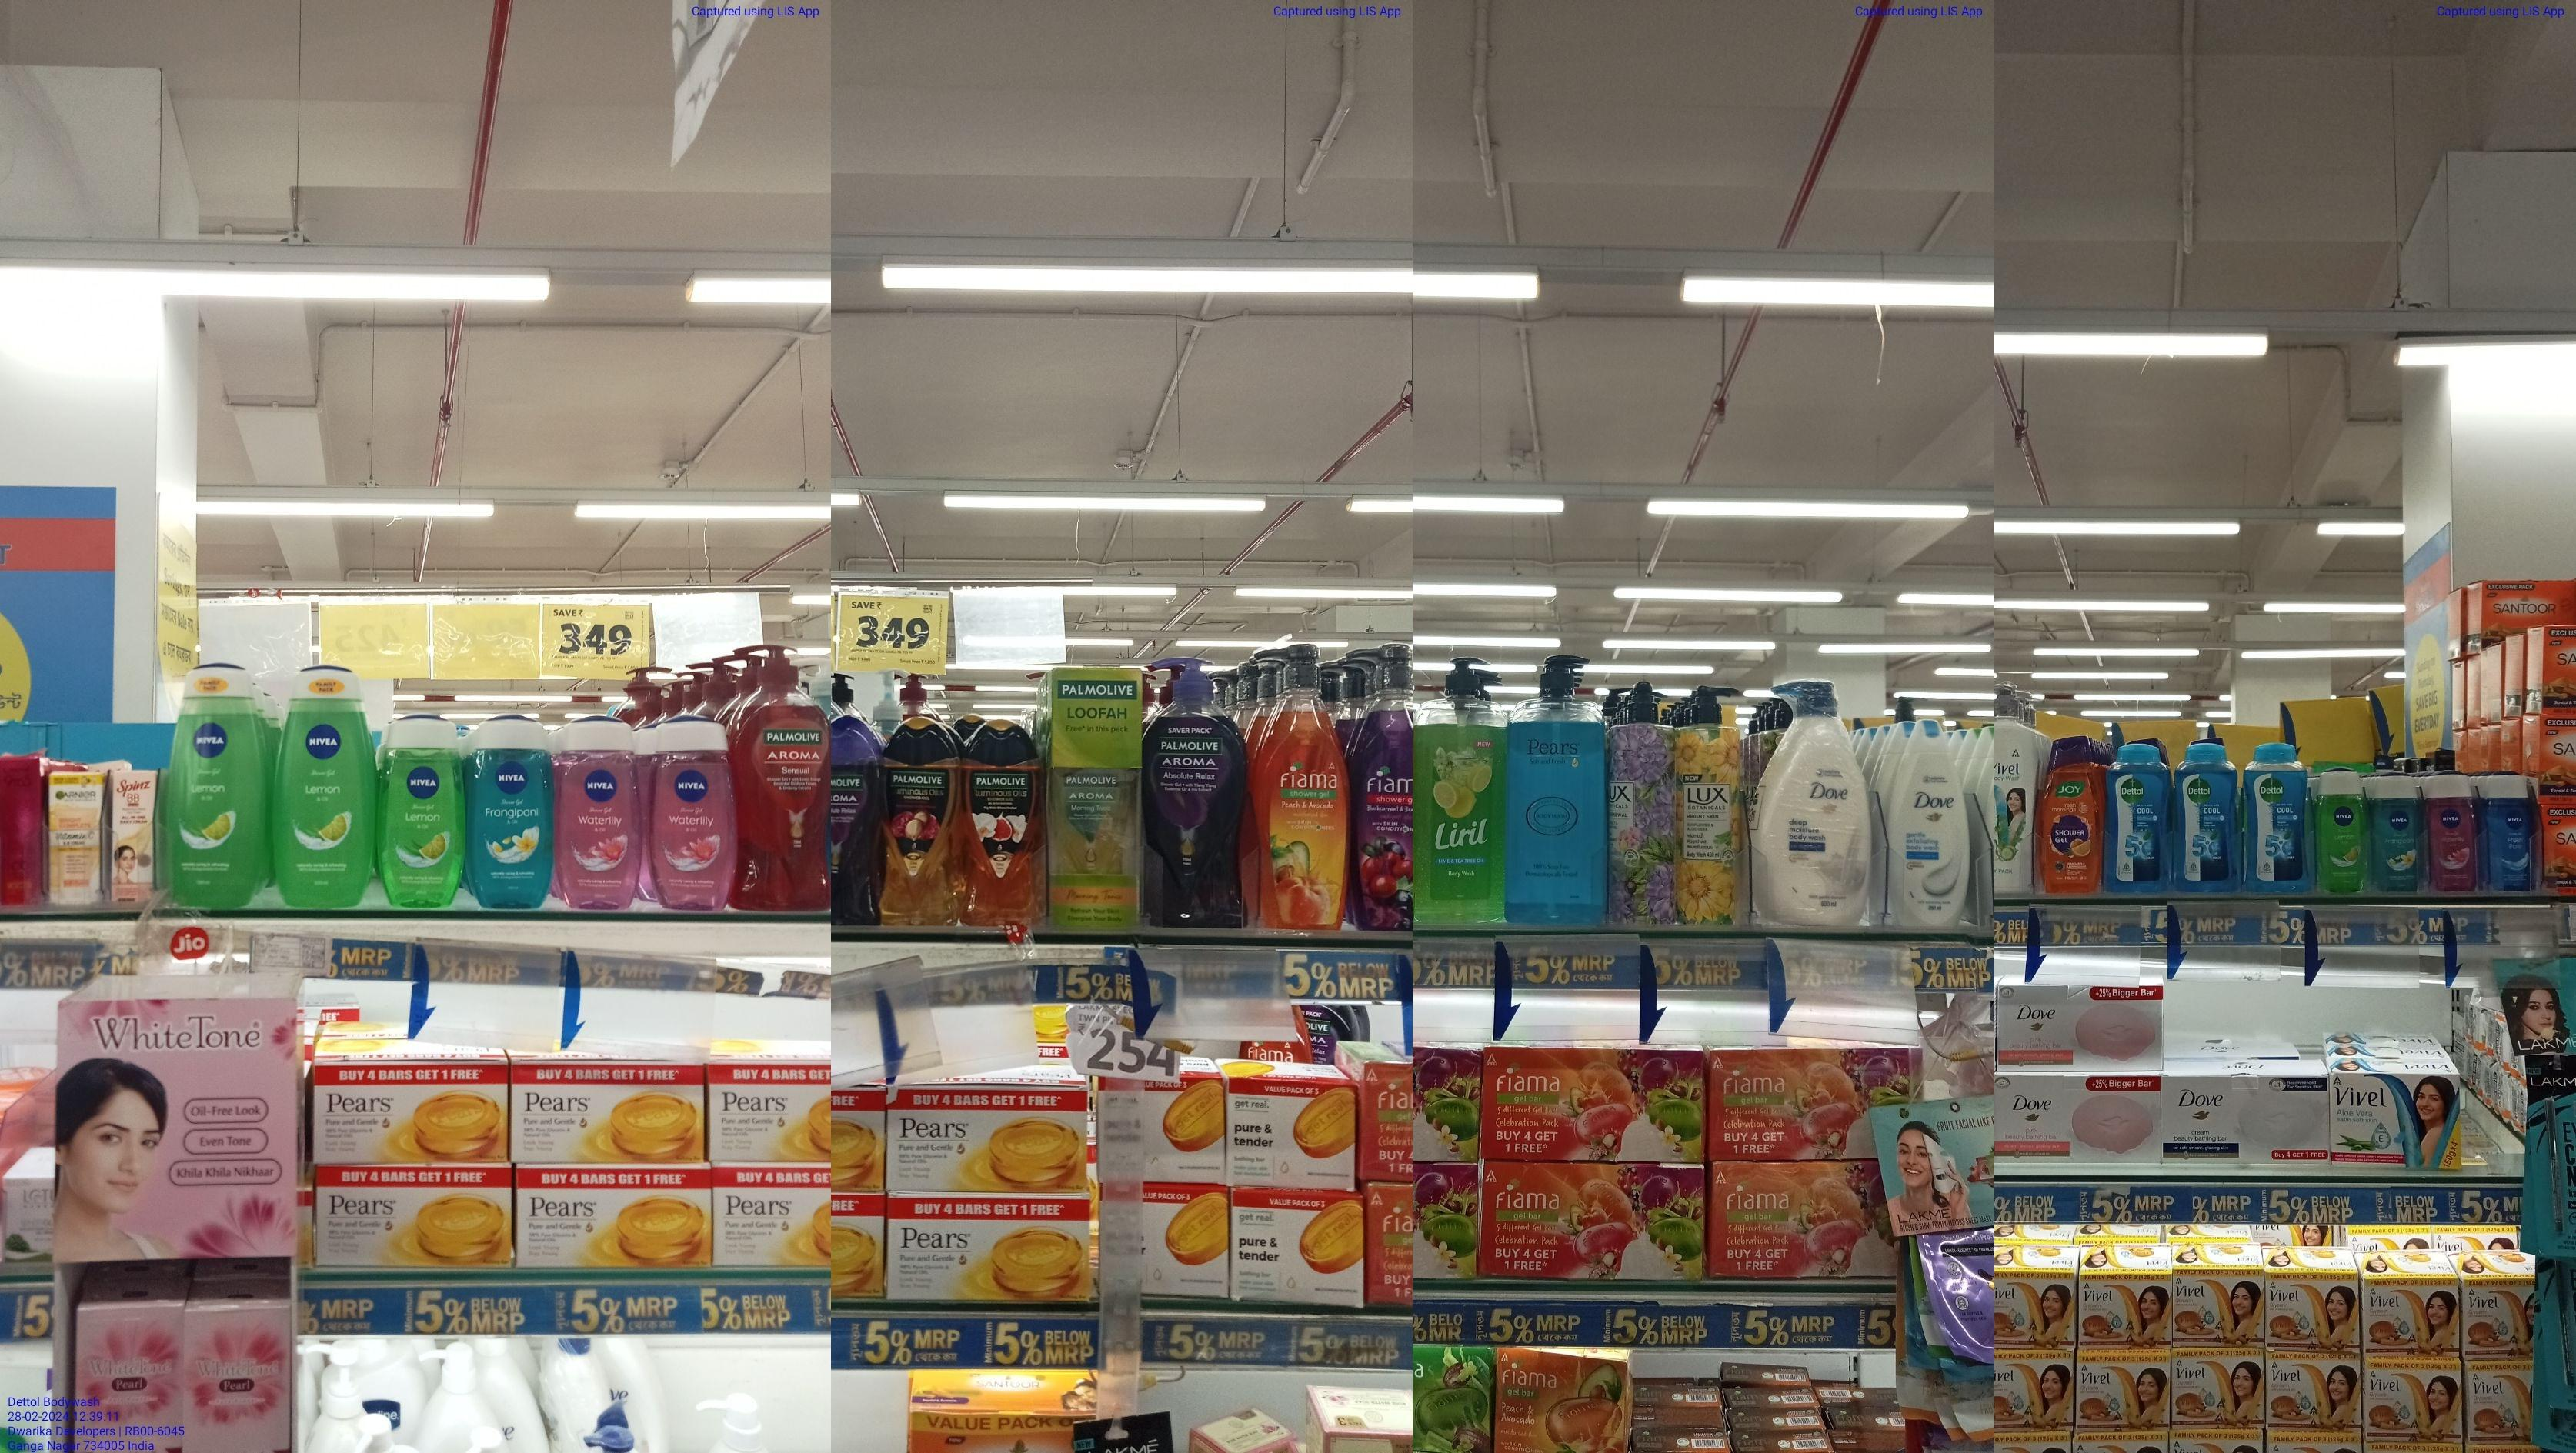Dettol_Bodywash_Cool: (2173, 739, 2240, 896), (2243, 737, 2309, 898), (2109, 741, 2167, 896)
Dove_Gentle_Exfoliating_Body_Wash_250ML: (1891, 719, 1967, 935)
Joy_Shower_Gel_Mandarin_and_Lemongrass_250ML: (2040, 732, 2105, 900)
Nivea_Shower_Gel_Frangipani_and_Oil_250ML: (471, 712, 557, 912), (2371, 771, 2424, 900)
Nivea_Shower_Gel_Lemon_and_Oil_250ML: (165, 659, 262, 907), (272, 663, 366, 909), (380, 711, 464, 910), (2316, 767, 2367, 896)
Nivea_Shower_Gel_Waterlily_and_Oil_250ML: (653, 712, 736, 916), (563, 714, 637, 916), (2426, 769, 2475, 896)
Palmolive_Luminous_Oils_Invigorating_Macadamia_Oil_With_Peony_250ML: (885, 716, 957, 930)
Palmolive_Luminous_Oils_With_White_Orchid_Shower_Gel_250ML: (962, 716, 1039, 933)
